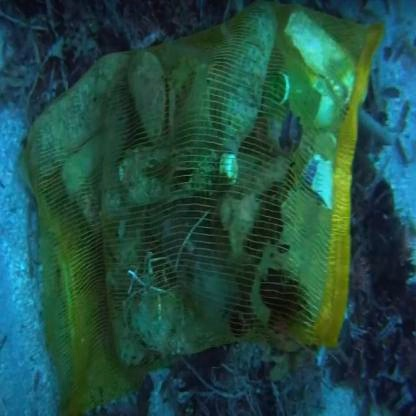pbottle: (17, 57, 356, 364)
